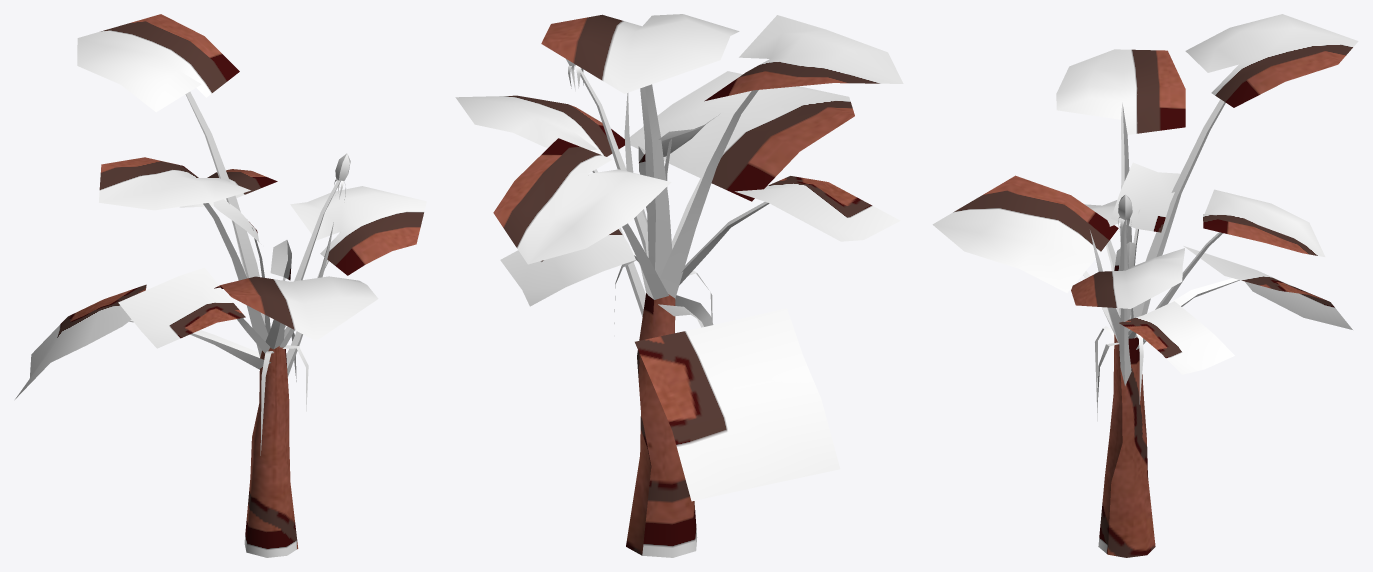
The model's file is 2014_Item_cao_2.FBX.
3 views of the same model, side by side, from view 1: azimuth 30°, elevation 25°; view 2: azimuth 150°, elevation 25°; view 3: azimuth 270°, elevation 25° (orthographic). The views are drawn at different scales.
Visible parts, largest first — view 1: 2014_Item_cao_2; view 2: 2014_Item_cao_2; view 3: 2014_Item_cao_2.
Boxes of the visible parts, box(x1,y1,x2,y2) form: 2014_Item_cao_2: box(15, 14, 426, 557); 2014_Item_cao_2: box(455, 14, 903, 557); 2014_Item_cao_2: box(932, 14, 1358, 557).
Size of the model in its own units: 127 by 159 by 128.
